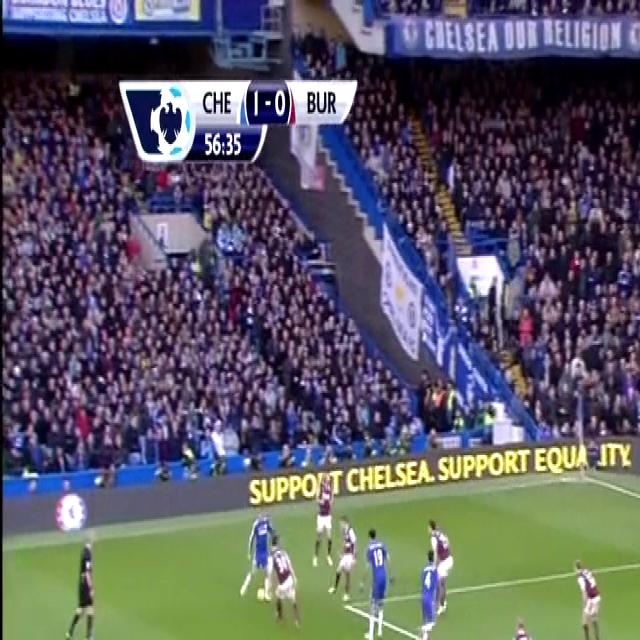ball: (254, 582, 266, 606)
referee: (62, 522, 104, 640)
soccer-player: (238, 505, 279, 615), (358, 519, 393, 640), (266, 533, 304, 637), (567, 542, 607, 640), (311, 461, 343, 578), (424, 510, 456, 618), (332, 507, 362, 612), (411, 546, 442, 640), (505, 608, 545, 640)
